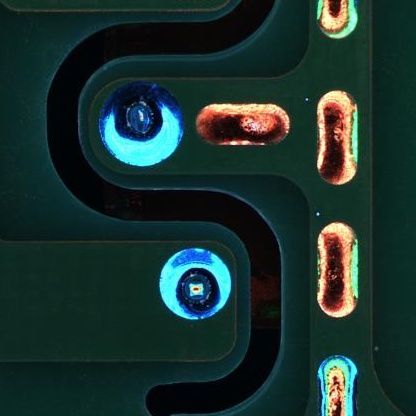spot: (99, 81, 183, 166), (159, 247, 232, 322)
